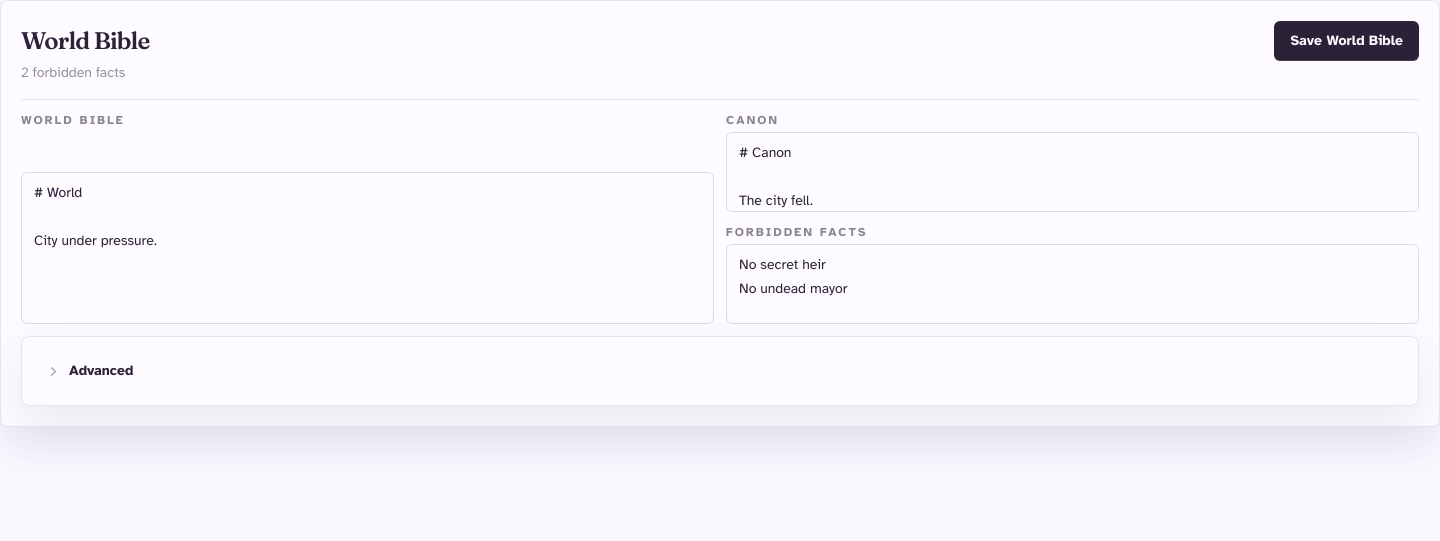
Test: WorldView › reveals AI expansion goal after expanding Advanced section
This screenshot has width=1440, height=541.
Click the button "Advanced".
click(101, 370)  # box [42,357,1398,385]
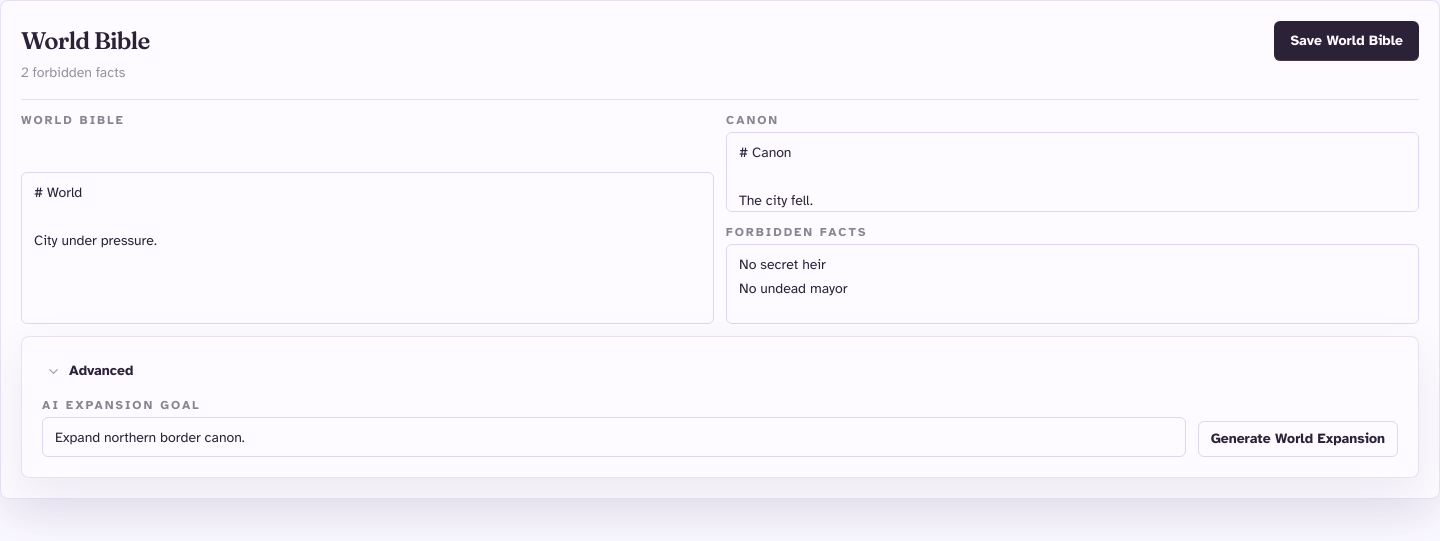
Check: the field named "World generation goal" is shown, box [42,417,1186,457]
